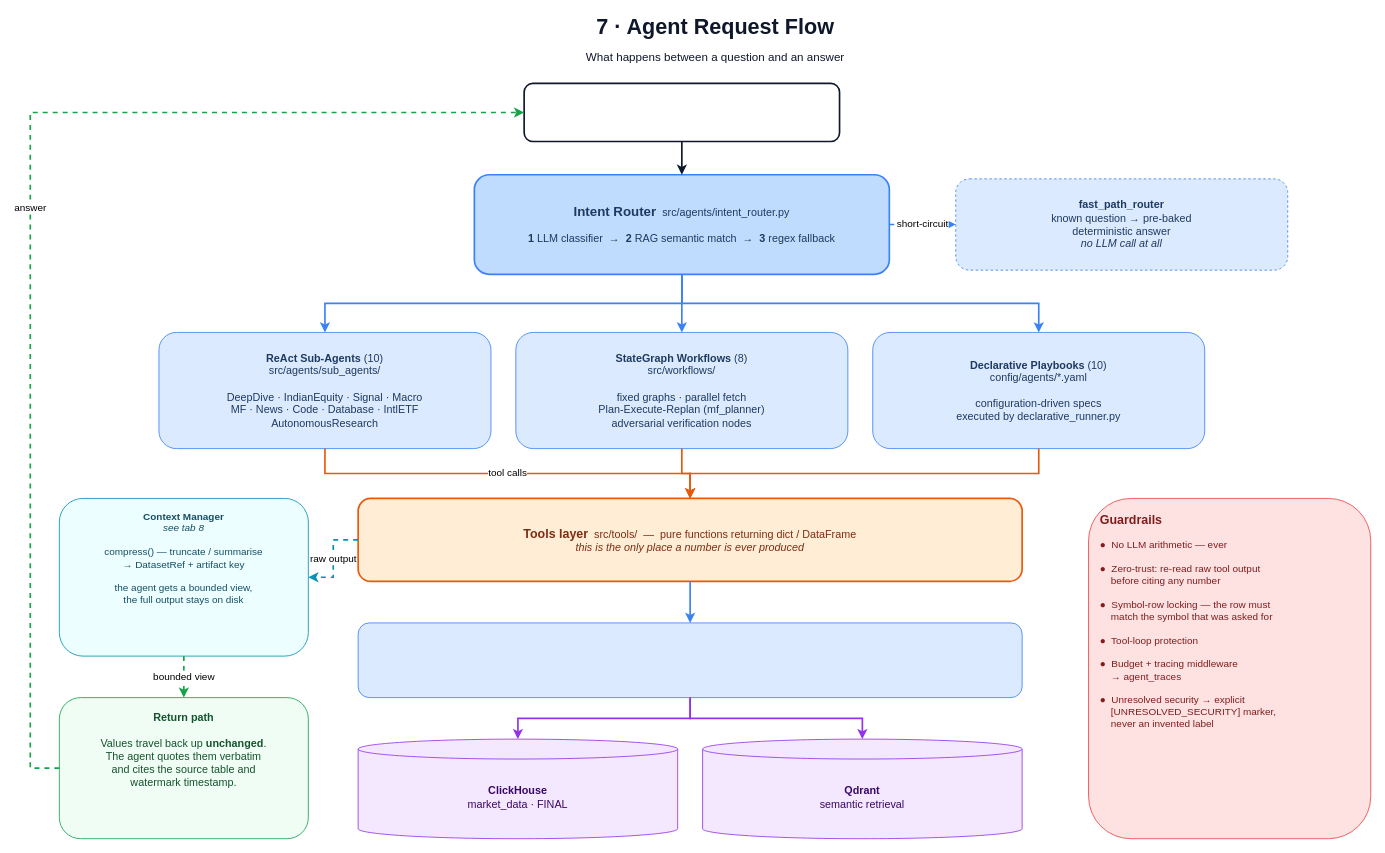
This 1385x853 diagram has some shape labels left out. The shapes that lost their labels are listed below. From the top down, each one's centre as x and y in pixels, then its label:
At (681,112): "👤 mosaic ask “what is my GOLDBEES signal?”".
At (689,660): "MarketDataRepository · vector stores · CHPool".
